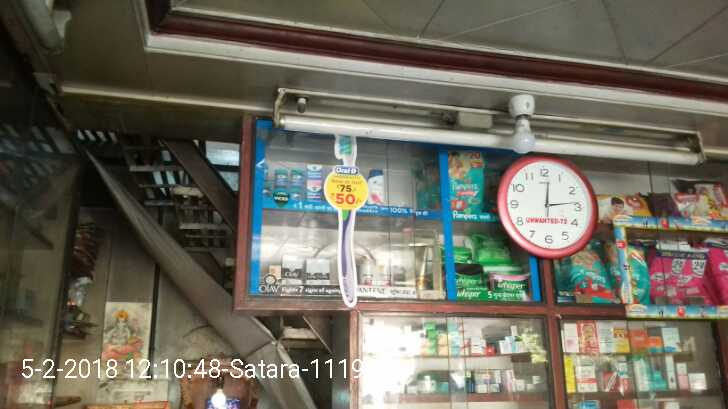vicks: (264, 158, 331, 208)
